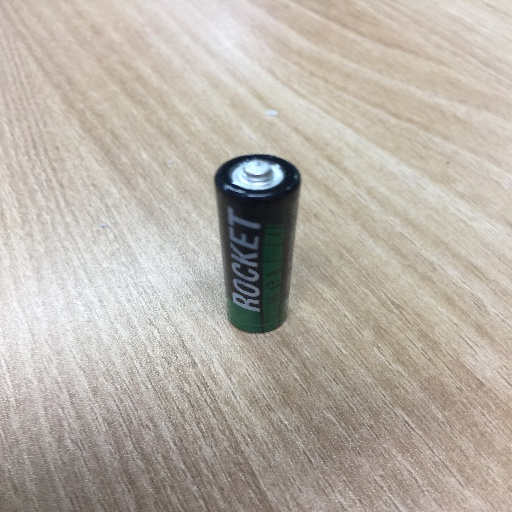Battery_0: (211, 147, 302, 345)
